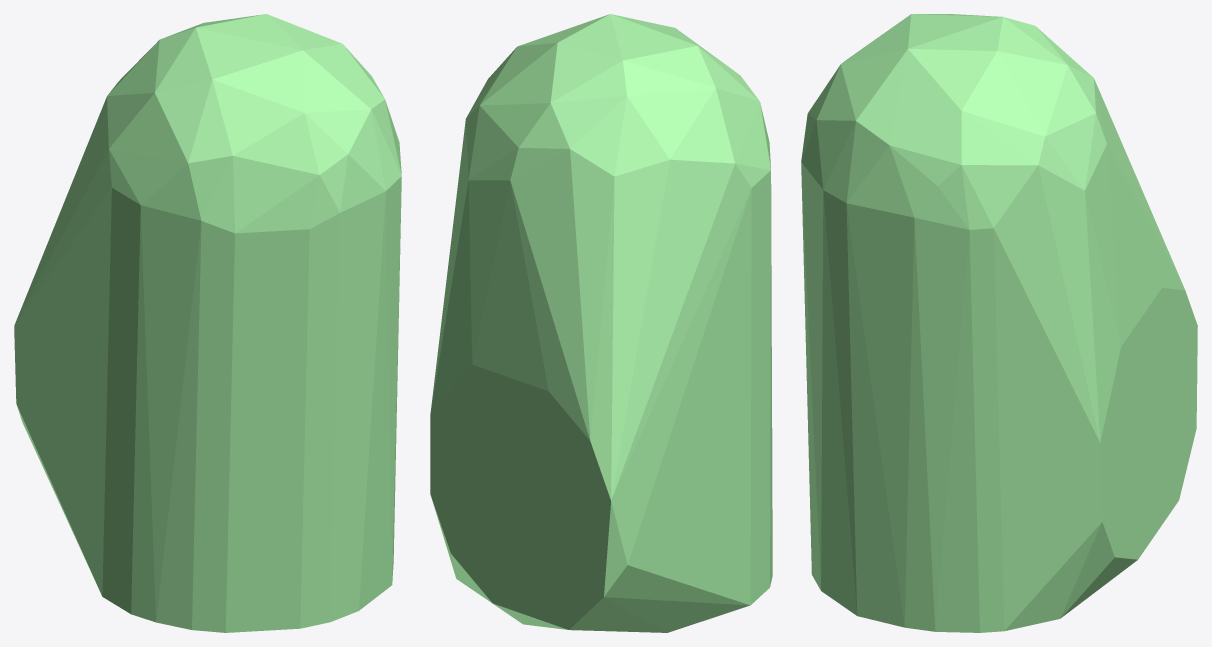
The model's file is dvkr_robot_R_link_respondable_coll_2.dae.
3 views of the same model, side by side, from view 1: azimuth 30°, elevation 25°; view 2: azimuth 150°, elevation 25°; view 3: azimuth 270°, elevation 25° (orthographic).
Visible parts, largest first — view 1: Node_0000023514CD6980; view 2: Node_0000023514CD6980; view 3: Node_0000023514CD6980.
Part boxes in pixels (x1,y1,x2,y2): Node_0000023514CD6980: [14, 14, 401, 632]; Node_0000023514CD6980: [430, 14, 772, 632]; Node_0000023514CD6980: [801, 14, 1197, 632].
Size of the model in its own units: 0.1523 by 0.2806 by 0.1873.
